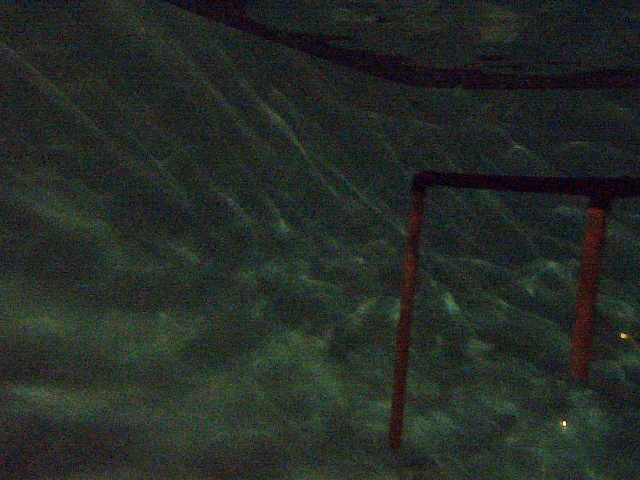Gate: (387, 190, 426, 448), (566, 204, 611, 382)
